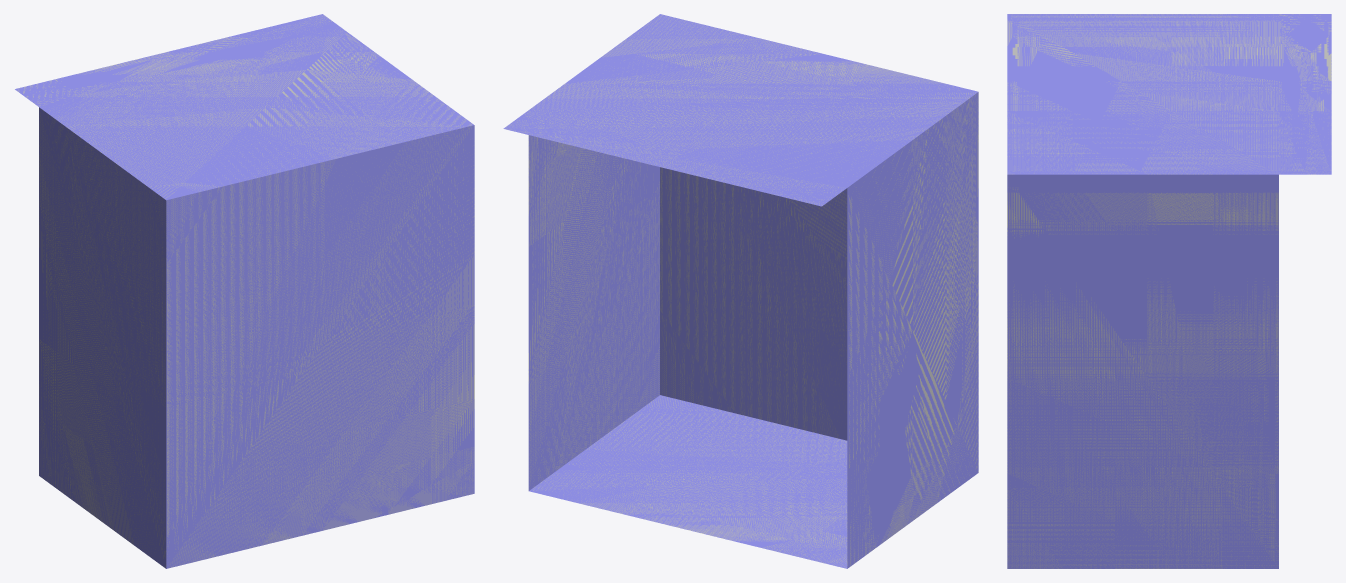
File: original-11.obj
The picture shows the model from 3 angles, left to right: view 1: azimuth 30°, elevation 25°; view 2: azimuth 150°, elevation 25°; view 3: azimuth 270°, elevation 25°; orthographic projection. The views are drawn at different scales.
Visible parts, largest first — view 1: mesh8/mesh8-geometry/material_3#mesh8-geometry; view 2: mesh8/mesh8-geometry/material_3#mesh8-geometry; view 3: mesh8/mesh8-geometry/material_3#mesh8-geometry.
Part boxes in pixels (left/top/right/bottom): mesh8/mesh8-geometry/material_3#mesh8-geometry: left=15, top=14, right=474, bottom=568; mesh8/mesh8-geometry/material_3#mesh8-geometry: left=503, top=14, right=978, bottom=568; mesh8/mesh8-geometry/material_3#mesh8-geometry: left=1007, top=14, right=1331, bottom=568.
Size of the model in its own units: 0.1945 by 0.2222 by 0.1658.
